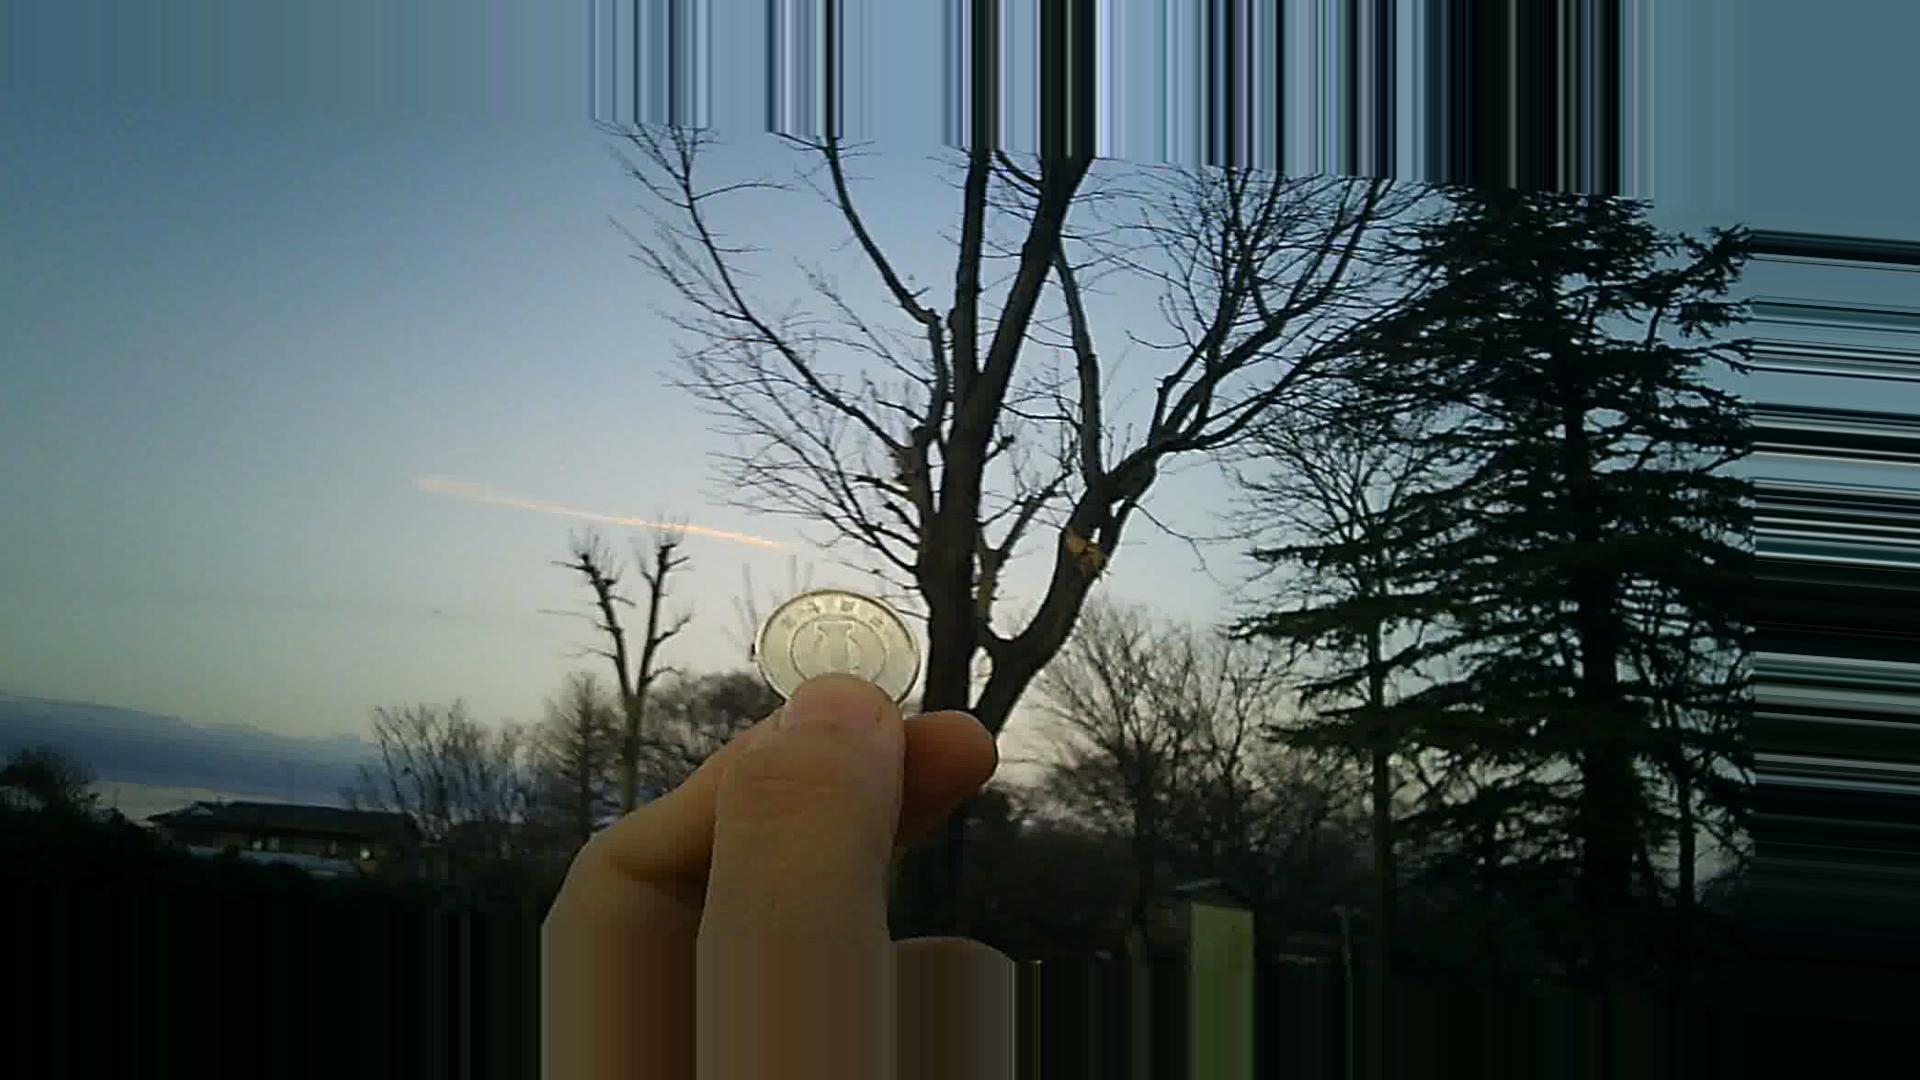1 Yen: (752, 575, 923, 713)
